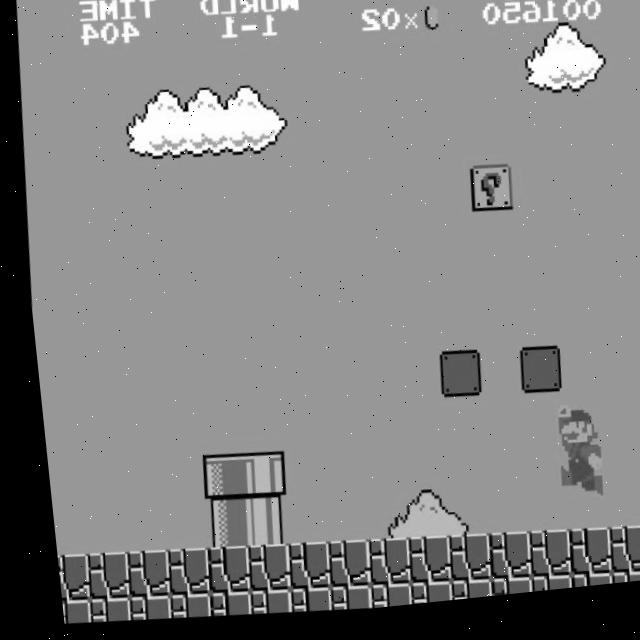0- big_mario: (542, 410, 598, 510)
13- mystery_block: (463, 173, 510, 223)
14- pipe: (231, 500, 278, 552), (191, 501, 238, 553)
15- pipe_head: (230, 454, 277, 506), (190, 456, 237, 507)
17- undestructible_block: (554, 537, 601, 589), (474, 539, 521, 591), (433, 540, 480, 592), (273, 545, 320, 597), (233, 546, 280, 598), (193, 547, 240, 599), (514, 538, 561, 589), (393, 542, 440, 593), (353, 543, 400, 594), (313, 544, 360, 595), (153, 549, 200, 600), (113, 550, 160, 601), (72, 551, 119, 602), (594, 536, 640, 587), (45, 552, 79, 602), (316, 589, 360, 618), (195, 593, 239, 622), (155, 594, 199, 623), (115, 595, 159, 624), (75, 596, 119, 625), (275, 591, 320, 619), (235, 592, 279, 620), (355, 589, 399, 615), (396, 587, 439, 612), (436, 586, 479, 609), (476, 585, 519, 605), (49, 598, 79, 625), (516, 584, 559, 602), (556, 582, 599, 599), (596, 581, 639, 596), (635, 535, 640, 586), (638, 580, 640, 592)
3- empty_block: (508, 355, 555, 406), (428, 357, 475, 408)
